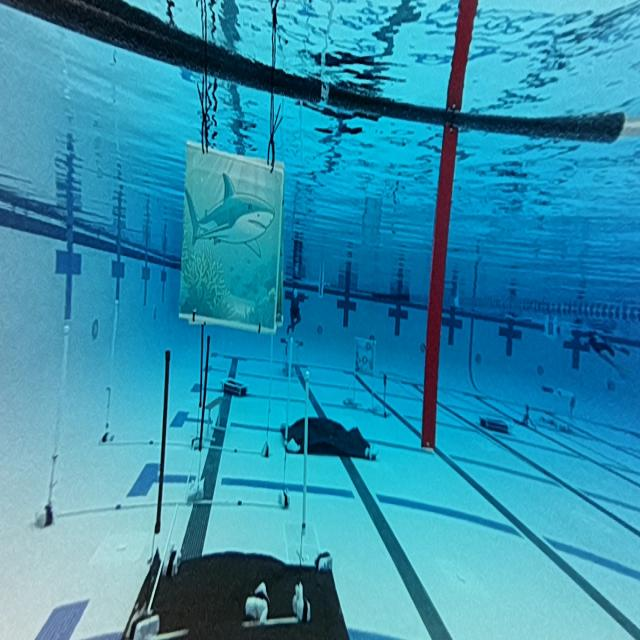round_nose: (177, 134, 286, 322)
